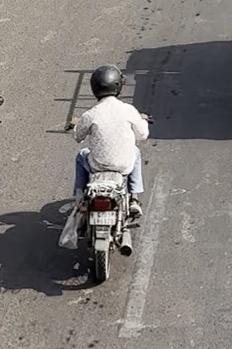BikeWithRider: (52, 58, 157, 286)
Helmet: (85, 59, 129, 104)
